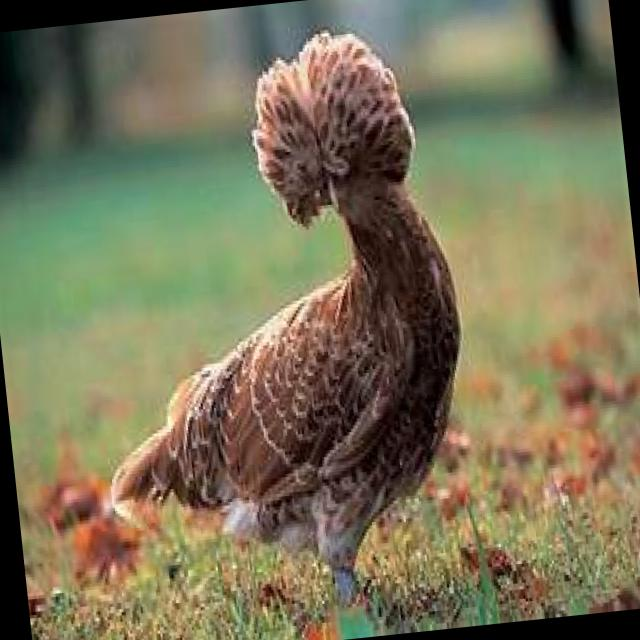animal: (61, 16, 492, 632)
